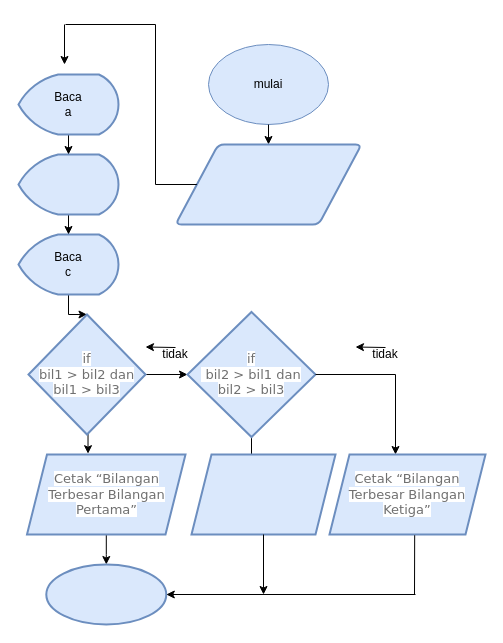
Some shapes in this 503 by 643 pixel diagram are drawn without their labels. The centre of each missing label's shape, as x and y in pixels:
"Baca b" belongs at point 68,184.
"Cetak “Bilangan Terbesar Bilangan Kedua”" belongs at point 263,494.
"END" belongs at point 106,594.
"inisialisasi a = integer b = integer c = integer" belongs at point 268,184.
